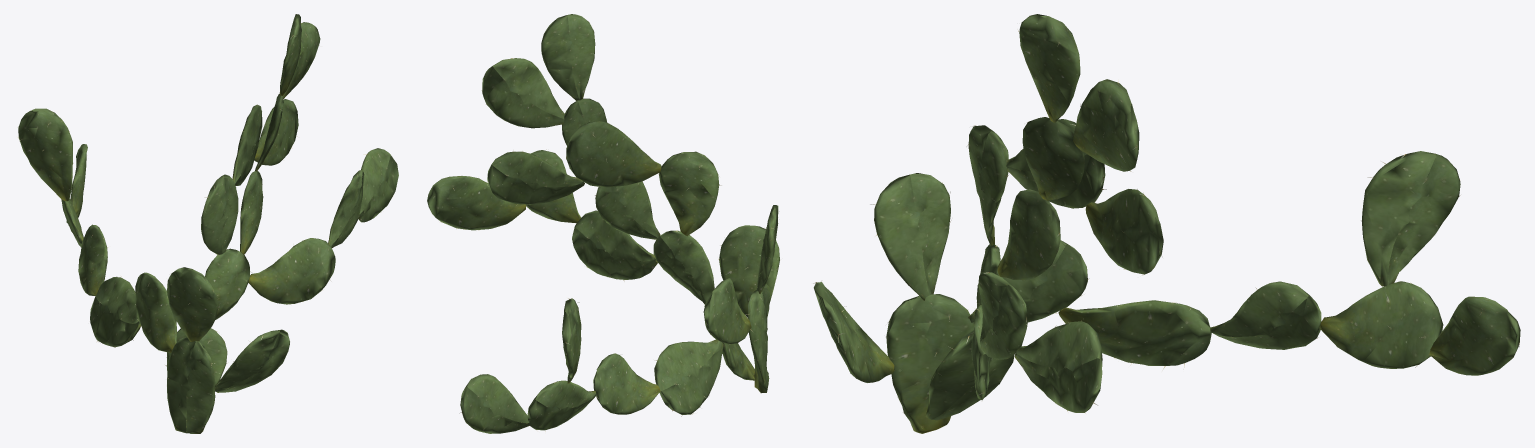
Rendered from opuntia_b.glb.
3 views of the same model, side by side, from view 1: azimuth 30°, elevation 25°; view 2: azimuth 150°, elevation 25°; view 3: azimuth 270°, elevation 25° (orthographic). The views are drawn at different scales.
Visible parts, largest first — view 1: Opuntia_ficus_indica_HD_Cactus Needle 01_0; view 2: Opuntia_ficus_indica_HD_Cactus Needle 01_0; view 3: Opuntia_ficus_indica_HD_Cactus Needle 01_0.
Part boxes in pixels (x1,y1,x2,y2): Opuntia_ficus_indica_HD_Cactus Needle 01_0: [17, 14, 398, 433]; Opuntia_ficus_indica_HD_Cactus Needle 01_0: [427, 14, 779, 433]; Opuntia_ficus_indica_HD_Cactus Needle 01_0: [813, 14, 1520, 433].
Bounding box in the file's own units: 1.33 × 1.58 × 1.96.
Materials: 4 (4 with a texture image).
